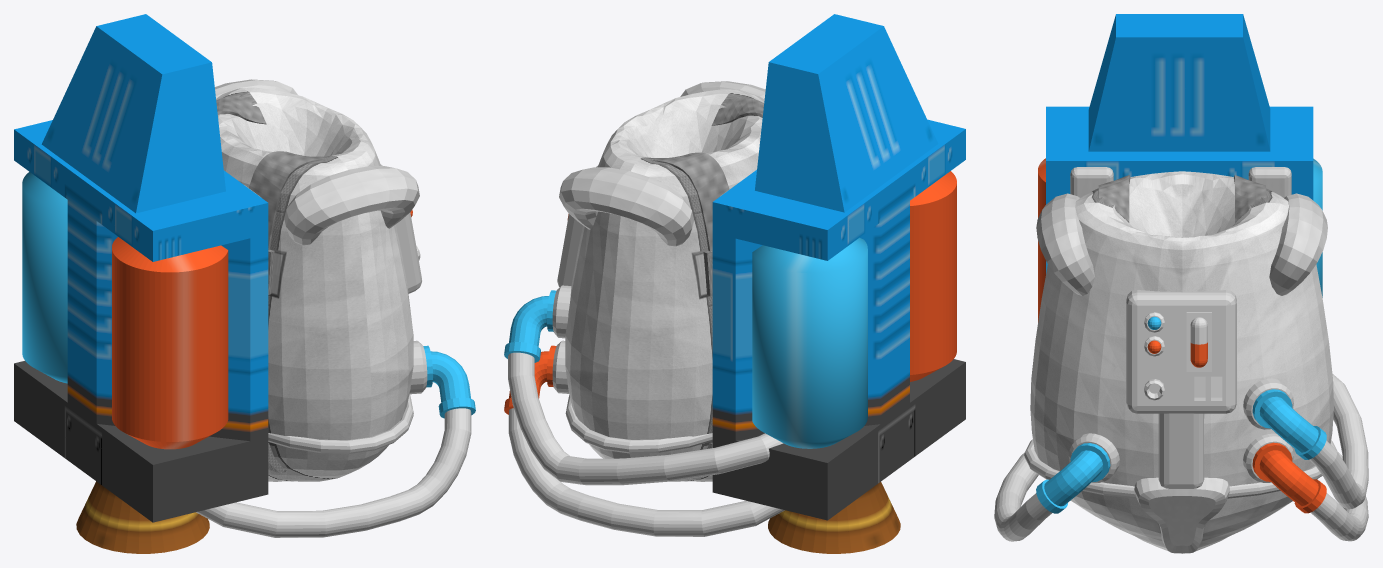
File: human1c.obj
The picture shows the model from 3 angles, left to right: view 1: azimuth 30°, elevation 25°; view 2: azimuth 150°, elevation 25°; view 3: azimuth 270°, elevation 25°; orthographic projection. The views are drawn at different scales.
Parts seen in each view (by area): view 1: Bag_2_ColobotMesh_, Body.subdiv.x1_111.011, Right_tank_2_ColobotMesh_.005, Left_tank_ColobotMesh_.002, Right_bot_pipe_111.006, Right_armlet_111.024, nozzle_ColobotMesh_.001, Straps_2_Cube, Ring_111.022, Right_bot_pipe.001_111.019, Front_panel_body_111.036, Right_bot_pipe.002_111.015; view 2: Bag_2_ColobotMesh_, Body.subdiv.x1_111.011, Left_tank_ColobotMesh_.002, Left_mid_pipe_111.005, Right_tank_2_ColobotMesh_.005, Left_bot_pipe_111.000, Right_armlet_111.024, nozzle_ColobotMesh_.001, Straps_2_Cube, Ring_111.022, Left_mid_pipe.001_111.038, Front_panel_body_111.036 (+2 smaller); view 3: Body.subdiv.x1_111.011, Bag_2_ColobotMesh_, Front_panel_body_111.036, Right_armlet_111.024, something_111.021, Left_mid_pipe_111.005, Bridge_front_111.020, Right_bot_pipe_111.006, Ring_111.022, Straps_2_Cube, Right_bot_pipe.001_111.019, Left_mid_pipe.001_111.038 (+14 smaller).
Part boxes in pixels (<box>): Bag_2_ColobotMesh_: <box>14,14,268,522</box>; Body.subdiv.x1_111.011: <box>216,87,413,481</box>; Right_tank_2_ColobotMesh_.005: <box>112,237,228,449</box>; Left_tank_ColobotMesh_.002: <box>22,172,67,383</box>; Right_bot_pipe_111.006: <box>196,408,471,537</box>; Right_armlet_111.024: <box>214,79,419,245</box>; nozzle_ColobotMesh_.001: <box>76,481,209,553</box>; Straps_2_Cube: <box>216,95,331,249</box>; Ring_111.022: <box>268,394,413,453</box>; Right_bot_pipe.001_111.019: <box>430,351,470,402</box>; Front_panel_body_111.036: <box>380,164,421,293</box>; Right_bot_pipe.002_111.015: <box>409,340,427,394</box>; Bag_2_ColobotMesh_: <box>712,14,965,520</box>; Body.subdiv.x1_111.011: <box>565,89,764,481</box>; Left_tank_ColobotMesh_.002: <box>752,237,867,448</box>; Left_mid_pipe_111.005: <box>508,352,783,485</box>; Right_tank_2_ColobotMesh_.005: <box>910,171,956,381</box>; Left_bot_pipe_111.000: <box>508,408,784,536</box>; Right_armlet_111.024: <box>559,81,765,246</box>; nozzle_ColobotMesh_.001: <box>768,482,900,553</box>; Straps_2_Cube: <box>646,96,764,442</box>; Ring_111.022: <box>565,395,712,453</box>; Left_mid_pipe.001_111.038: <box>509,296,548,346</box>; Front_panel_body_111.036: <box>557,165,598,287</box>; Body.subdiv.x1_111.011: <box>1030,171,1333,553</box>; Bag_2_ColobotMesh_: <box>1046,14,1313,273</box>; Front_panel_body_111.036: <box>1126,290,1236,413</box>; Right_armlet_111.024: <box>1036,193,1327,295</box>; something_111.021: <box>1134,477,1229,553</box>; Left_mid_pipe_111.005: <box>1309,373,1368,509</box>; Bridge_front_111.020: <box>1158,413,1204,488</box>; Right_bot_pipe_111.006: <box>994,452,1051,541</box>; Ring_111.022: <box>1024,439,1338,498</box>; Straps_2_Cube: <box>1098,175,1265,222</box>; Right_bot_pipe.001_111.019: <box>1044,450,1102,506</box>; Left_mid_pipe.001_111.038: <box>1259,396,1318,452</box>.
Size of the model in its own units: 3.45 by 4.73 by 3.47.
